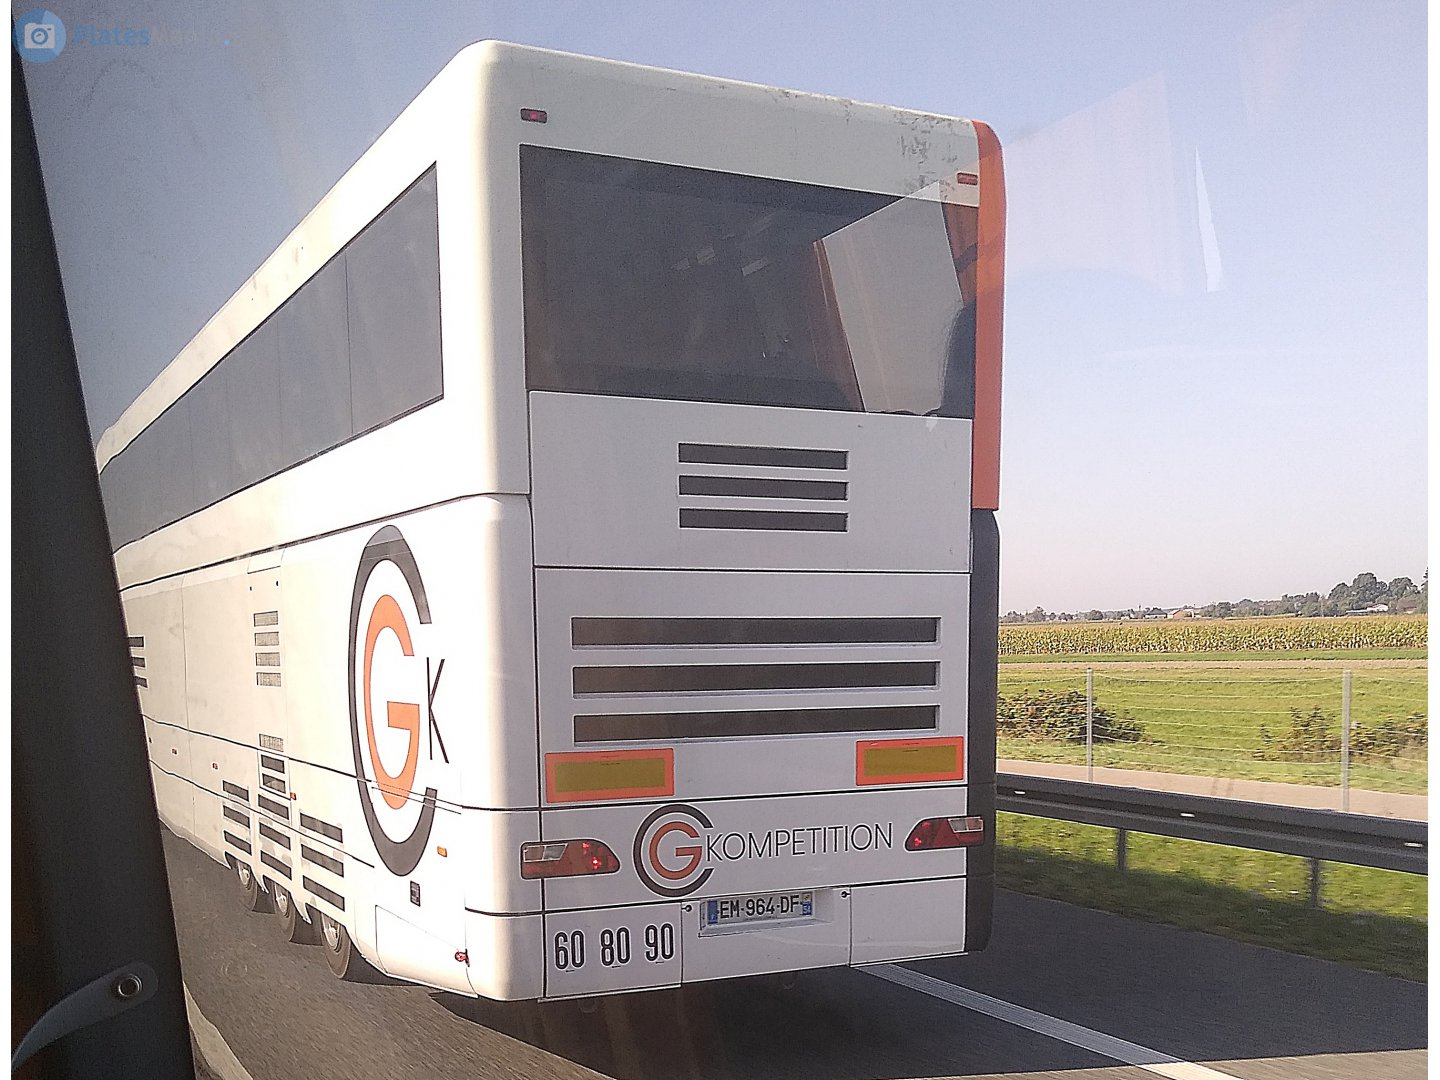licence plate: (700, 887, 817, 932)
